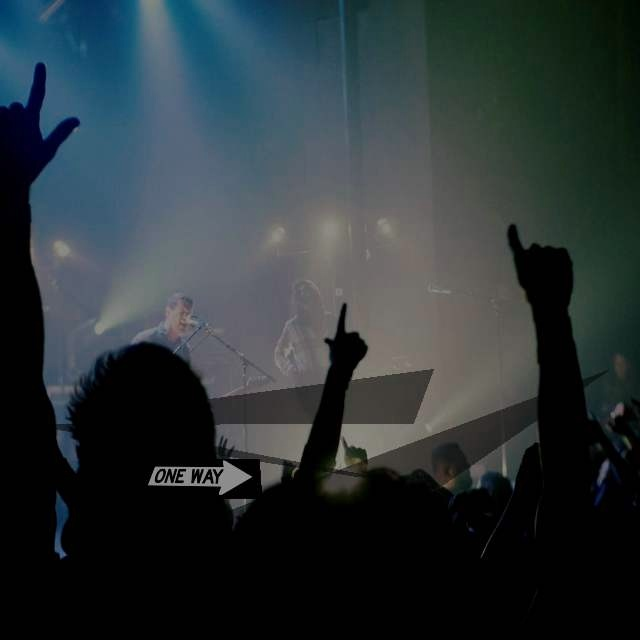ONE_WAY_ right: (136, 458, 262, 499)
